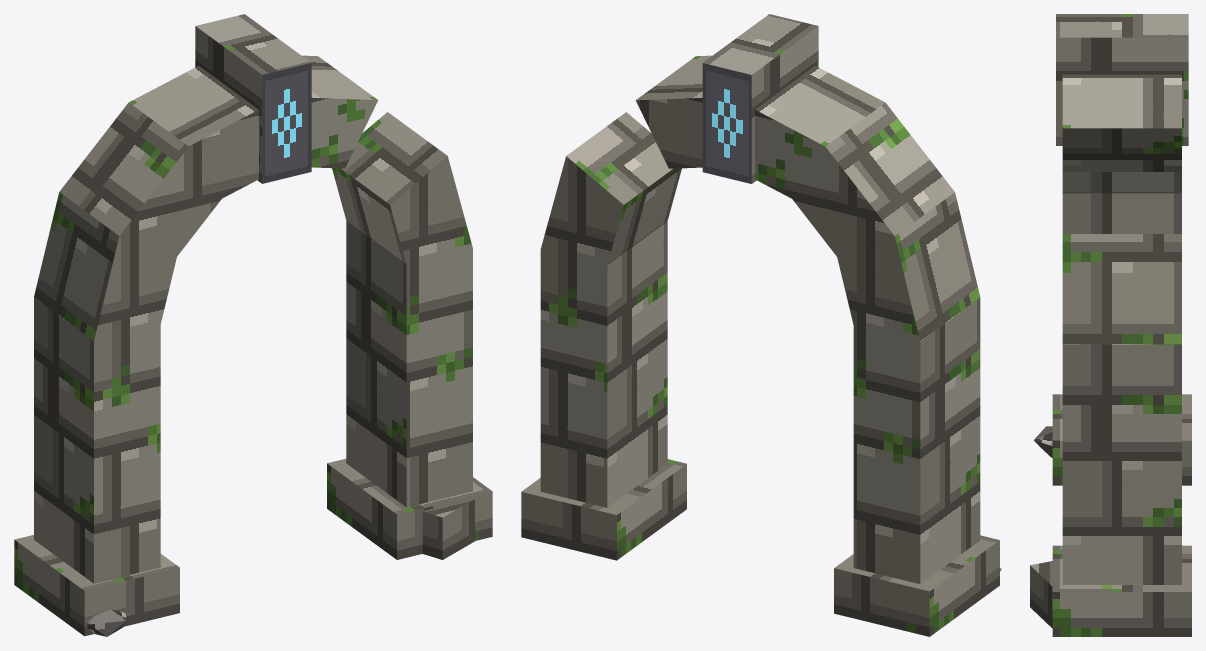
File: ruin_arch.glb
3 renders of one model, left to right at view 1: azimuth 30°, elevation 25°; view 2: azimuth 150°, elevation 25°; view 3: azimuth 270°, elevation 25°, orthographic.
Parts seen in each view (by area): view 1: ruin_arch; view 2: ruin_arch; view 3: ruin_arch.
Boxes of the visible parts, x1,y1,x2,y2 form: ruin_arch: (14,14,492,636); ruin_arch: (521,14,1001,636); ruin_arch: (1030,14,1191,636).
Bounding box in the file's own units: 2.82 × 3.41 × 0.9767.
3 materials, 3 textured.
